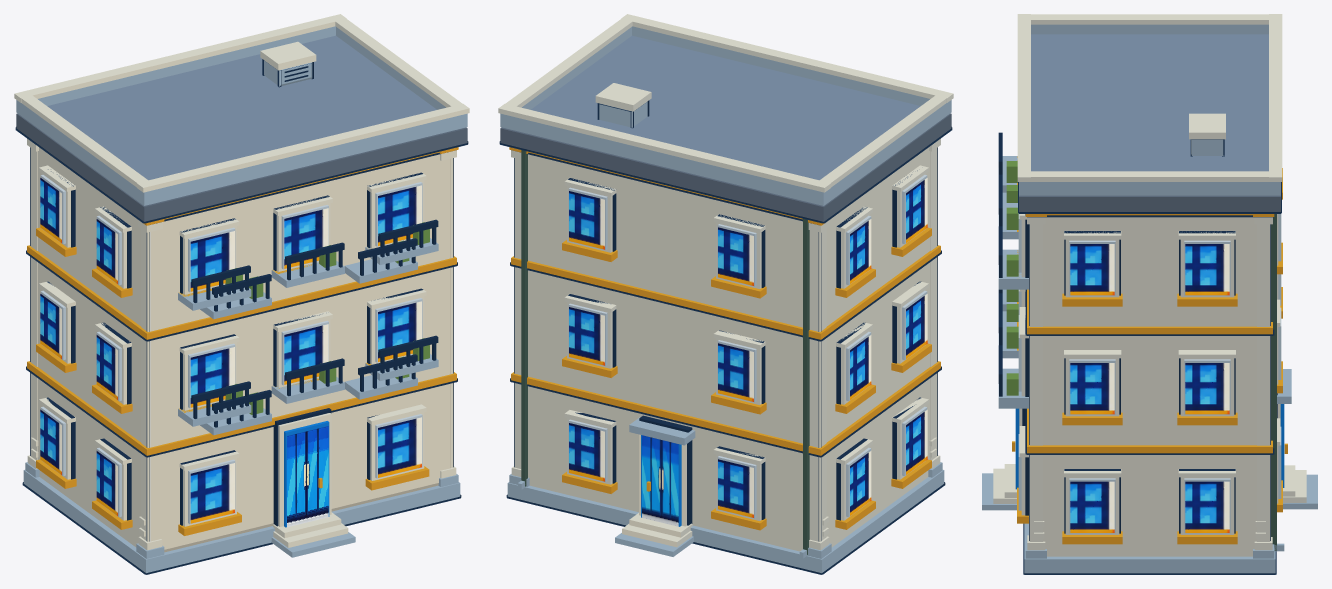
3 views of the same model, side by side, from view 1: azimuth 30°, elevation 25°; view 2: azimuth 150°, elevation 25°; view 3: azimuth 270°, elevation 25° (orthographic). The views are drawn at different scales.
Visible parts, largest first — view 1: A02 绿顶阳台公寓; view 2: A02 绿顶阳台公寓; view 3: A02 绿顶阳台公寓.
Boxes of the visible parts, x1,y1,x2,y2 form: A02 绿顶阳台公寓: (14, 14, 469, 574); A02 绿顶阳台公寓: (498, 14, 953, 574); A02 绿顶阳台公寓: (982, 14, 1317, 574).
Bounding box in the file's own units: 7.84 × 9.17 × 6.81.
Materials: 2 (1 with a texture image).
